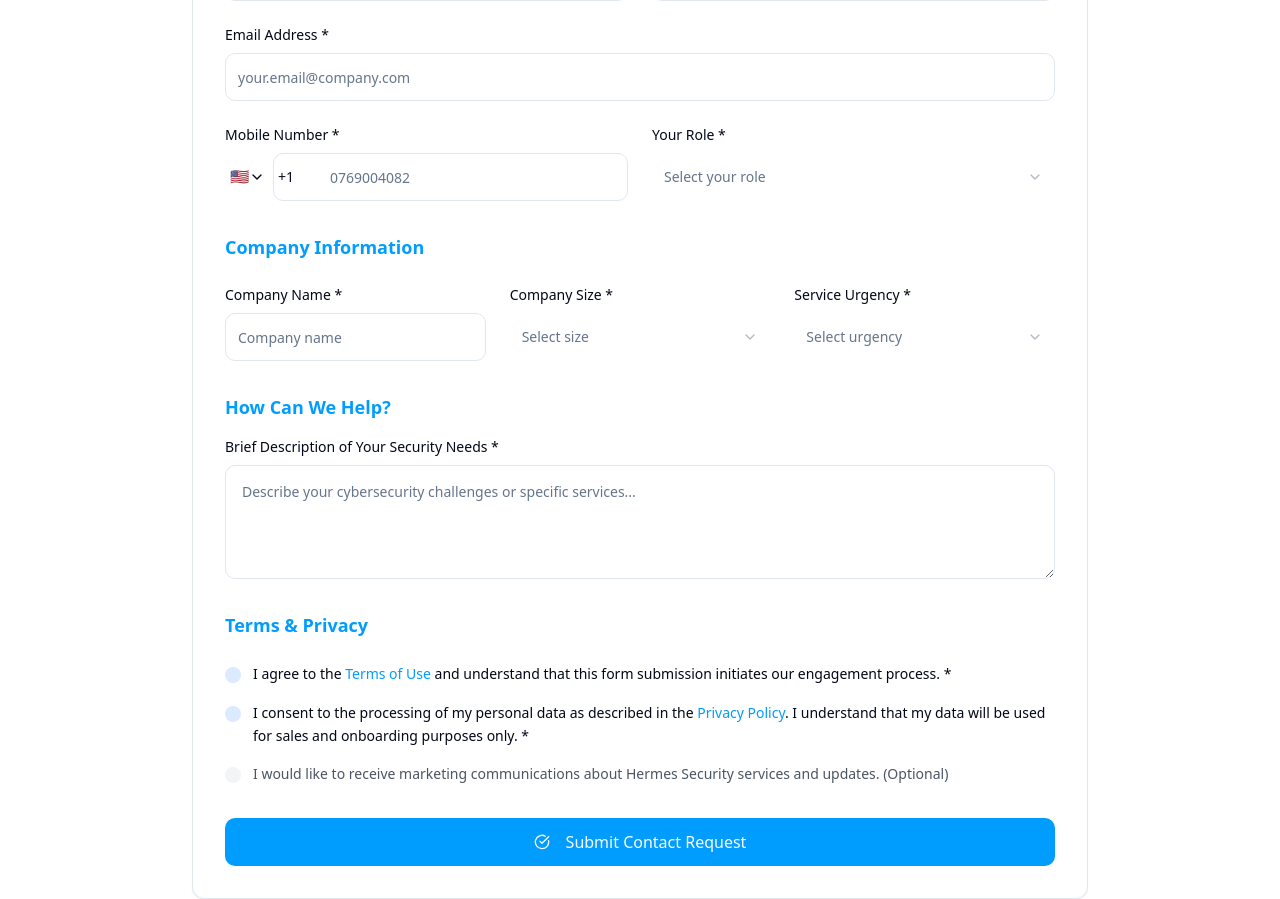
it: ContactForm › validates required fields
The image size is (1280, 899).
(page scrolled)
Click the button "Submit Contact Request".
click(640, 842)  # box [225,818,1055,866]
(page scrolled)
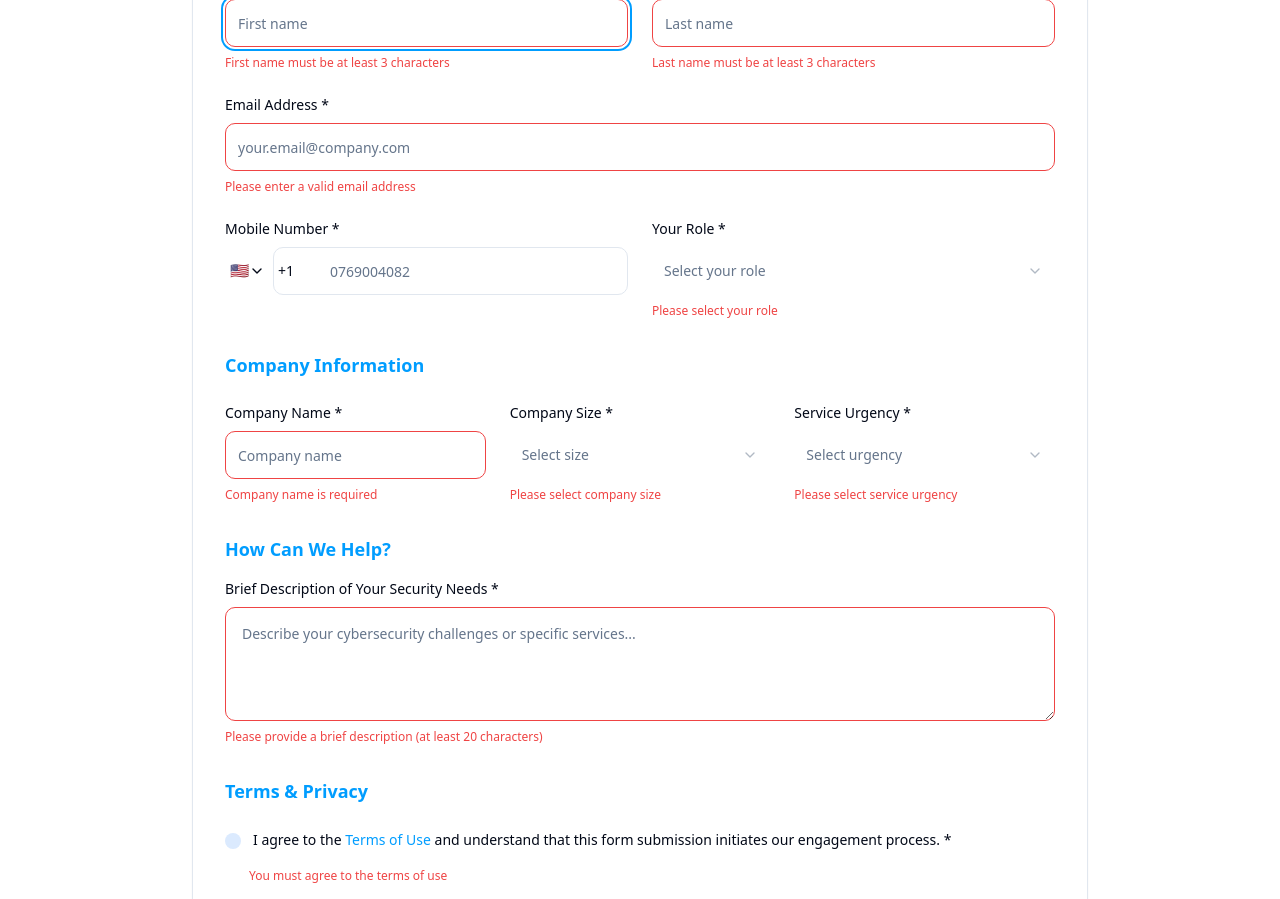
Result: the text "First name must be at least 3 characters" is shown at [225,54,450,71]
Result: the text "Last name must be at least 3 characters" is shown at [652,54,876,71]
Result: the text "Please enter a valid email address" is shown at [225,178,416,195]
